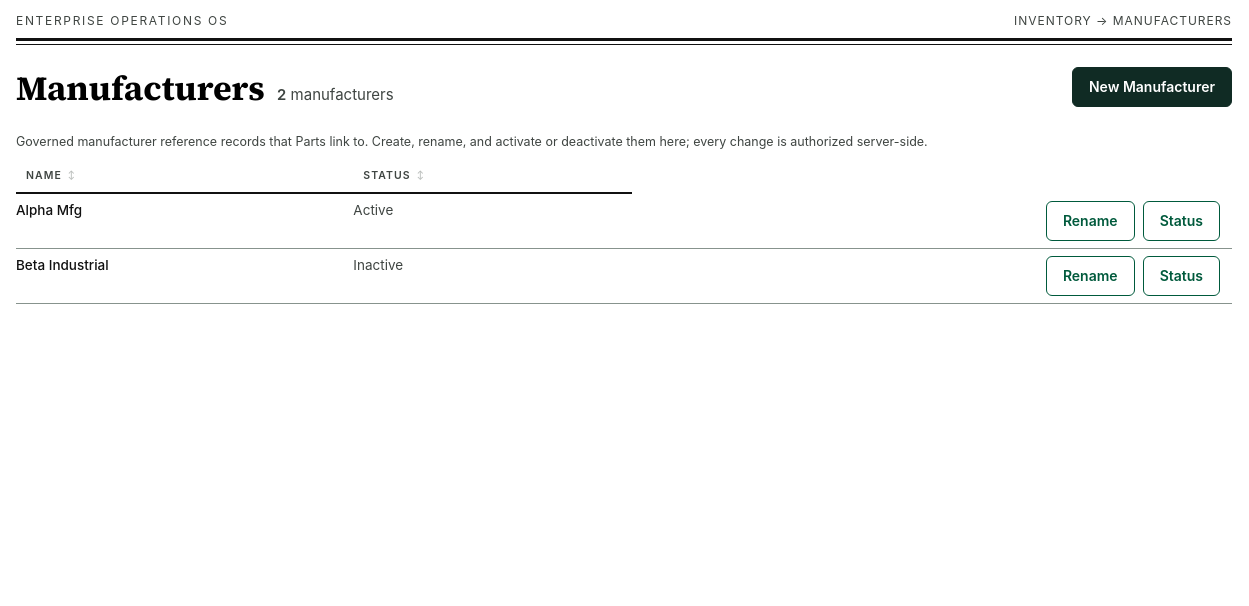
Manufacturers — metadata list runtime migration (S-INV-MANUFACTURERS) › F5 REFUSAL: the server's refusal is shown in the open panel, and nothing claims success
Expected: the text "Alpha Mfg" is shown, [16,194,353,249]
Click the button "New Manufacturer": coordinates (1152, 87) [1072,67,1232,107]
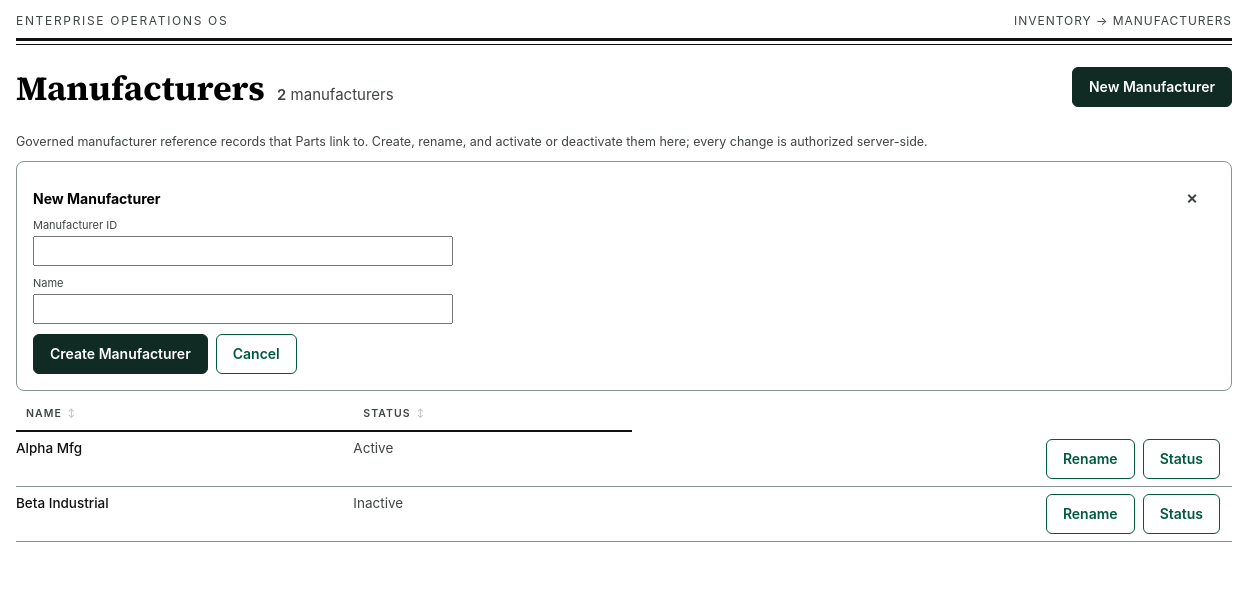
In the field labelled "Manufacturer ID": coordinates (243, 251) [33,236,453,266], type "m-x"
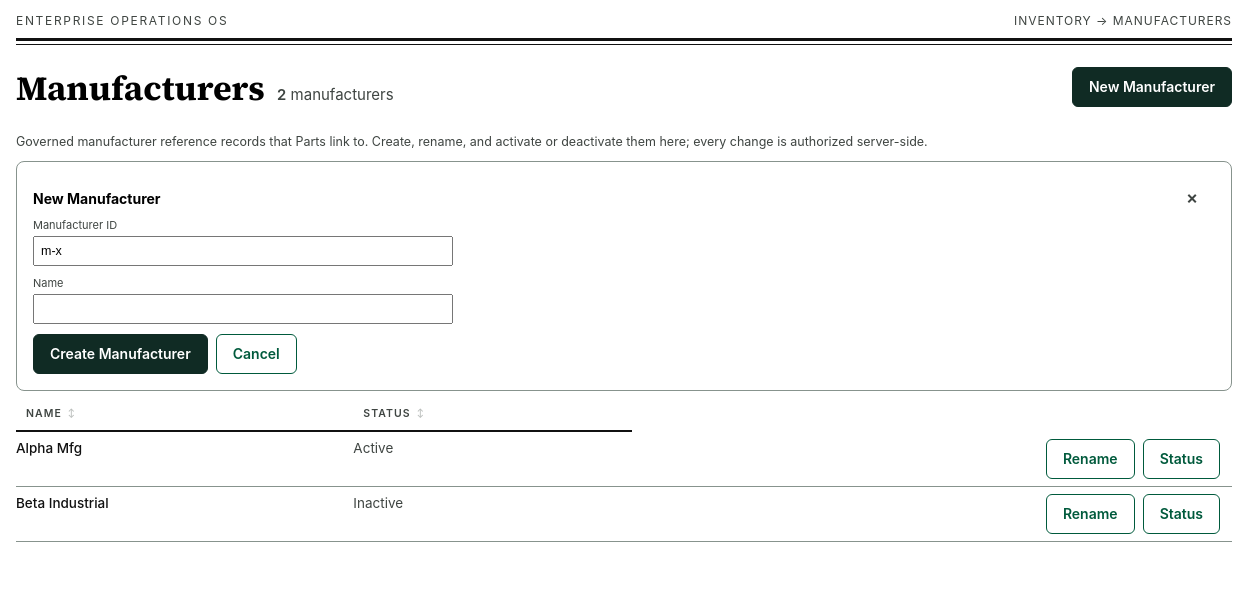
In the field labelled "Name": coordinates (243, 309) [33,294,453,324], type "X"
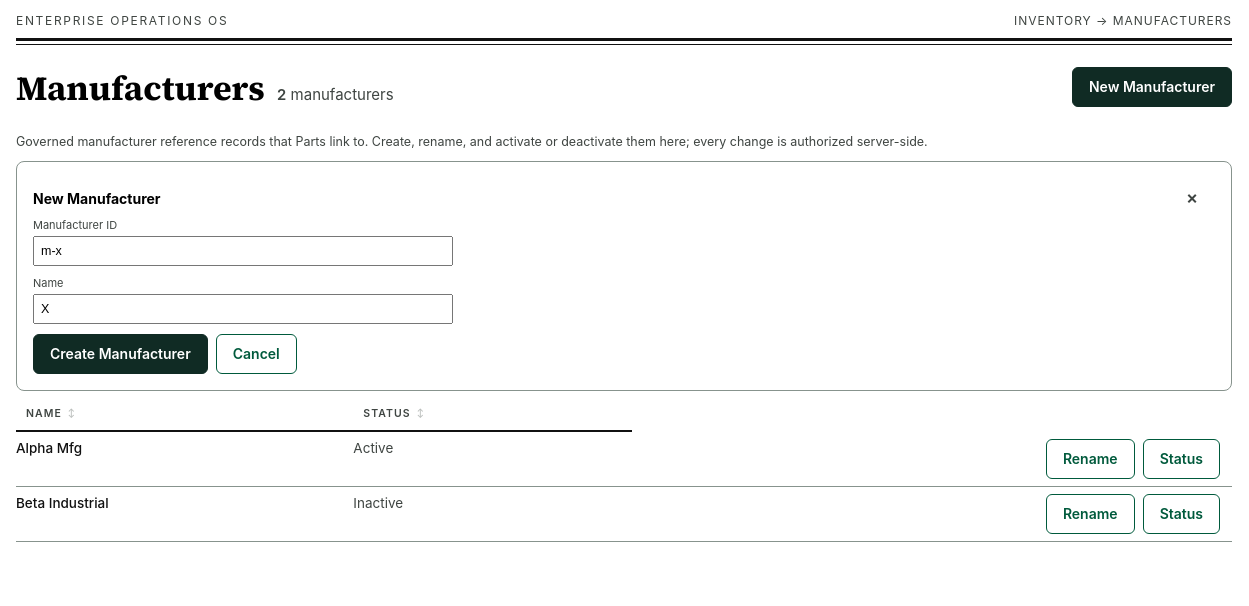
Click the button "Create Manufacturer": coordinates (120, 354) [33,334,208,374]
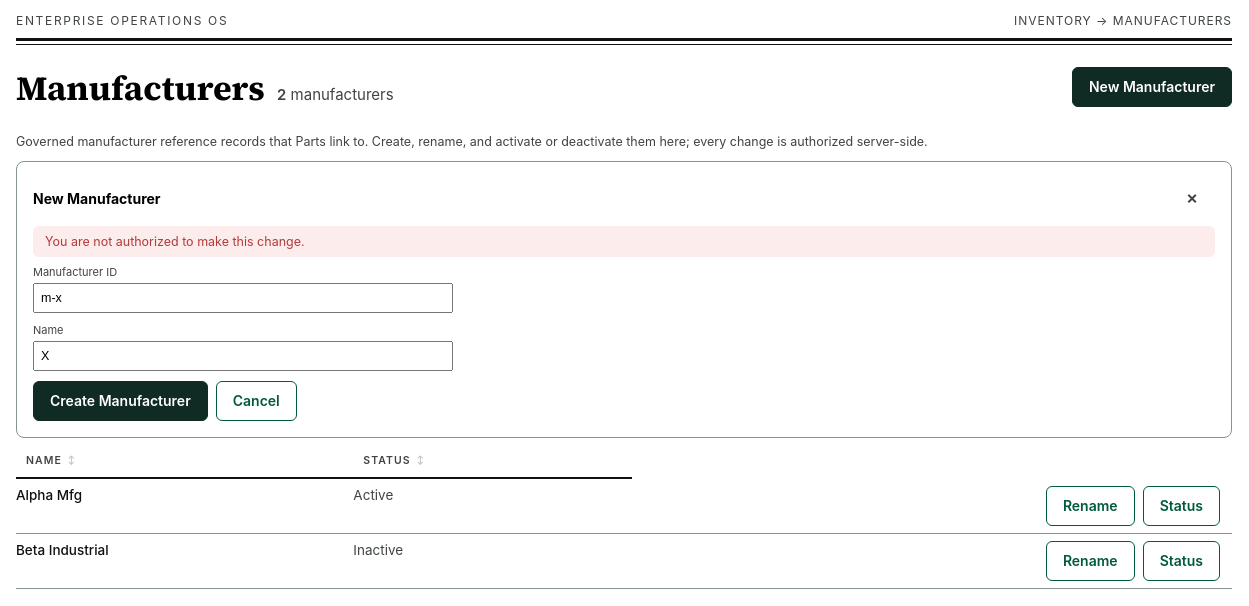
Now the button "Create Manufacturer" is shown, box [33,381,208,421]
Now the text "You are not authorized to make this change." is shown, box [33,226,1215,257]
